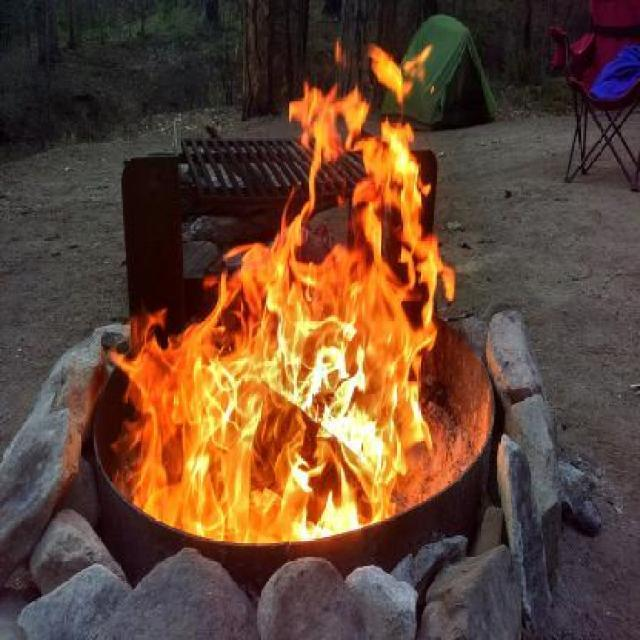Fire: (110, 40, 449, 522)
